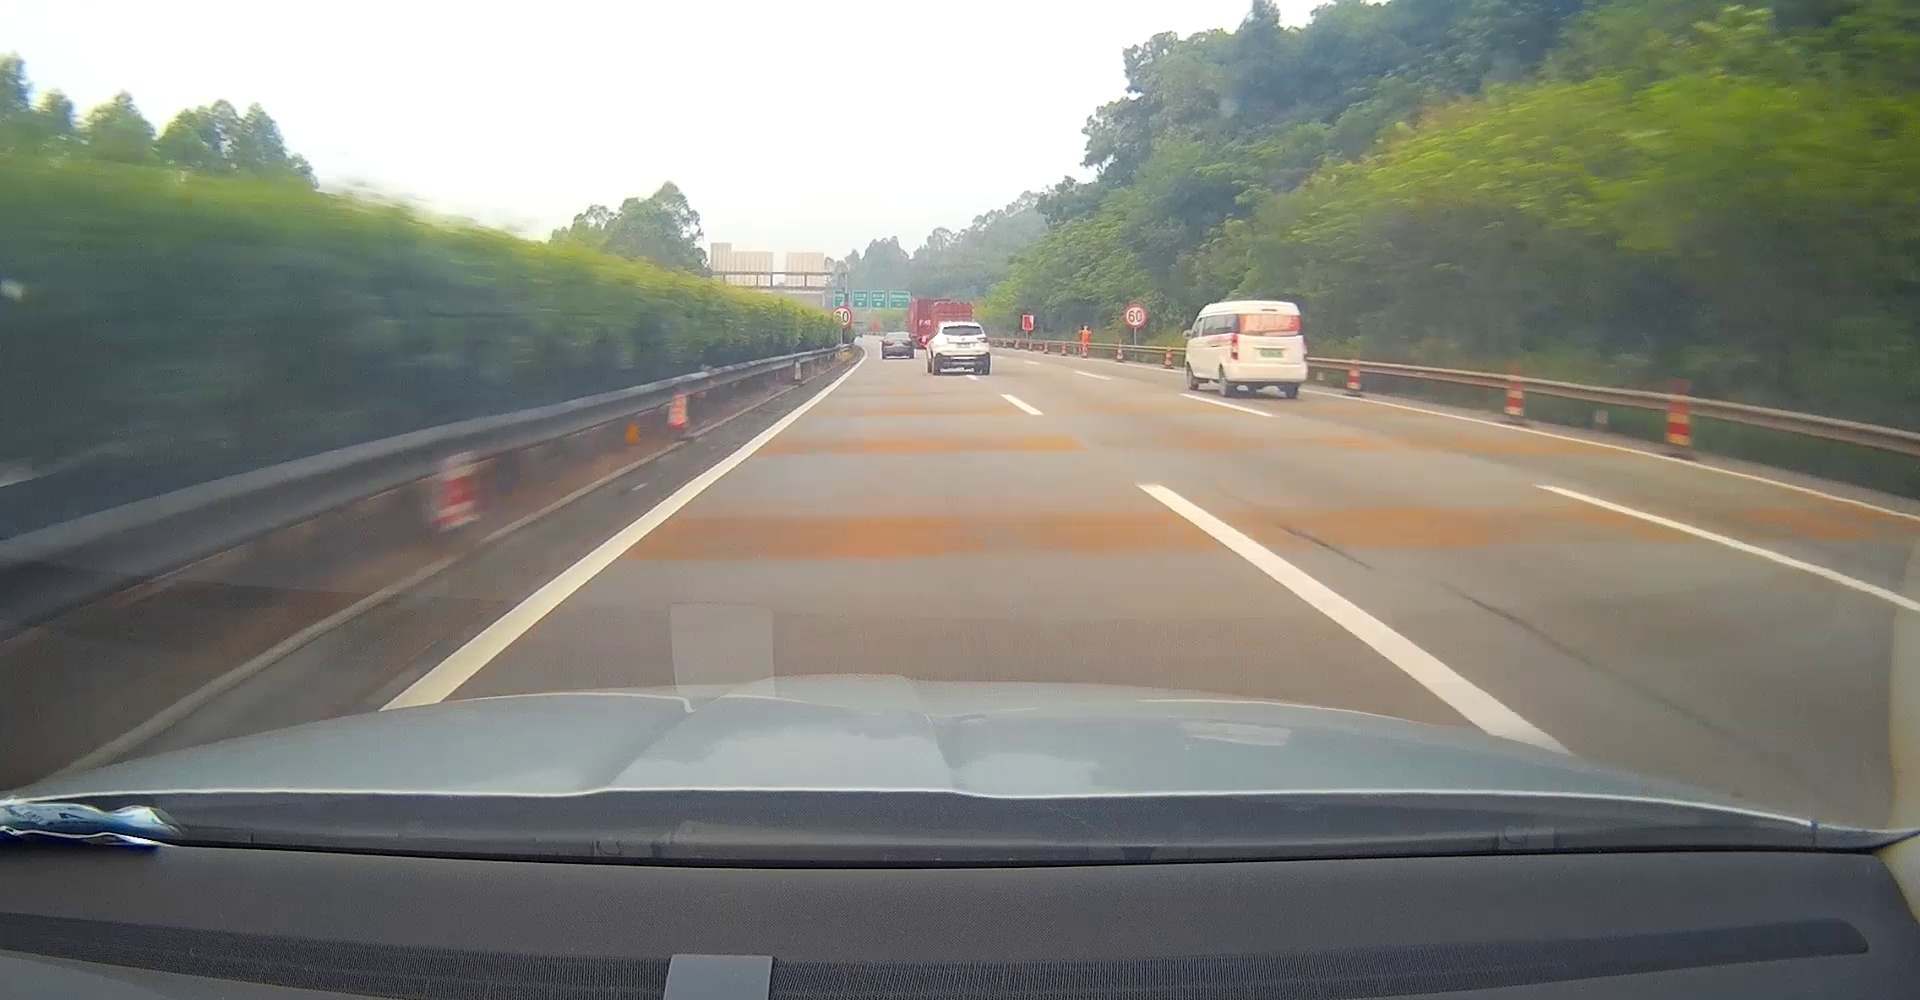L_light: (1230, 332, 1238, 360), (935, 338, 949, 344), (883, 340, 891, 346)
R_light: (1302, 338, 1308, 360), (977, 338, 989, 343), (902, 341, 910, 345), (895, 332, 902, 334)
T_light: (1261, 308, 1277, 311), (957, 325, 968, 327)
day-brake: (1227, 299, 1308, 398)
day-no: (932, 322, 990, 374), (881, 332, 914, 359)
